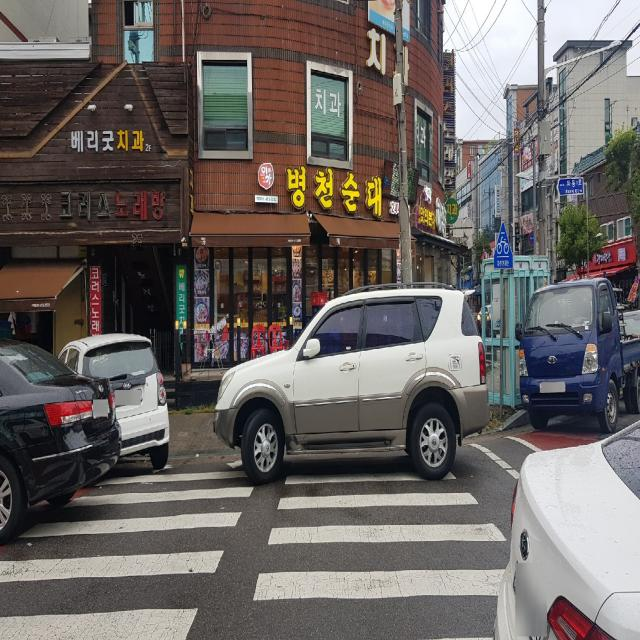횡단보도: (0, 457, 508, 639)
